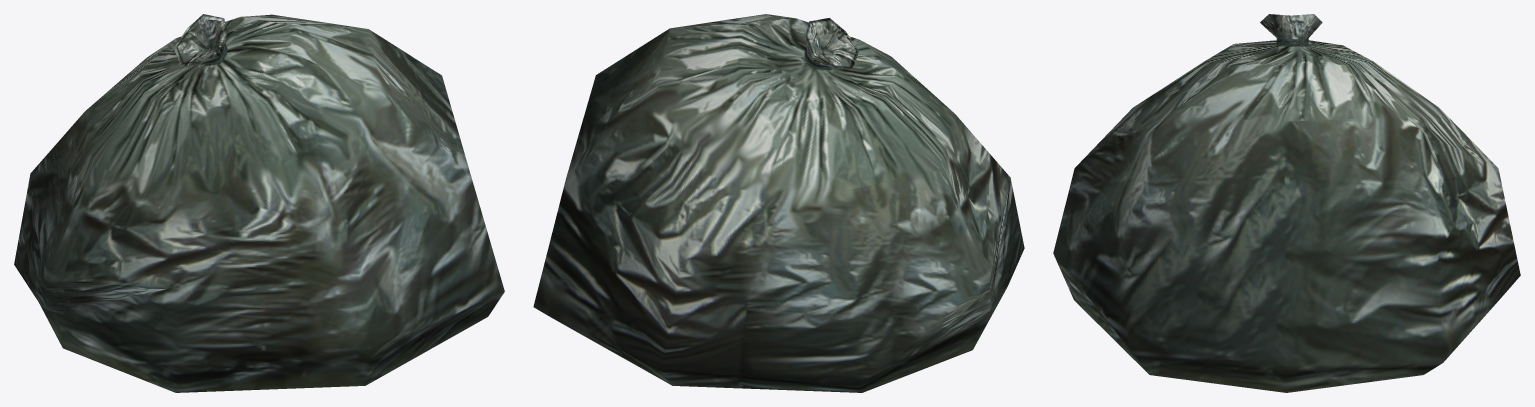
The model's file is TrashBag2.fbx.
3 renders of one model, left to right at view 1: azimuth 30°, elevation 25°; view 2: azimuth 150°, elevation 25°; view 3: azimuth 270°, elevation 25°, orthographic. The views are drawn at different scales.
Parts seen in each view (by area): view 1: TrashBag2 (2); view 2: TrashBag2 (2); view 3: TrashBag2 (2).
Boxes of the visible parts, x1=… form: TrashBag2 (2): x1=14, y1=14, x2=504, y2=392; TrashBag2 (2): x1=533, y1=14, x2=1024, y2=392; TrashBag2 (2): x1=1053, y1=14, x2=1520, y2=392.
Size of the model in its own units: 99.42 by 64.9 by 101.
